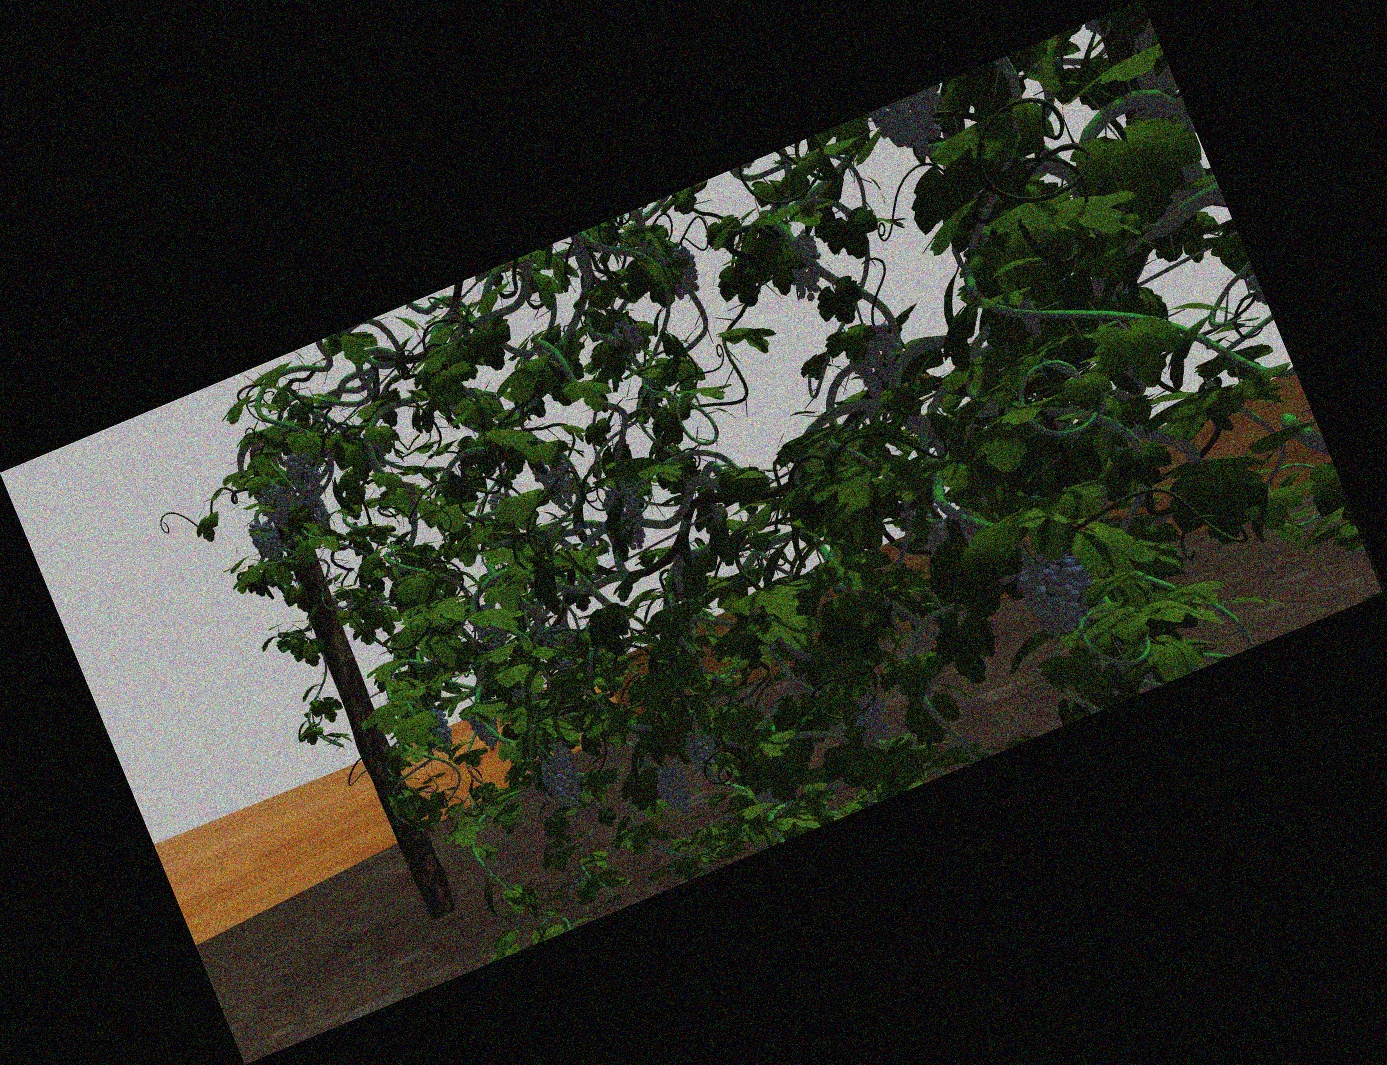grape: (1023, 553, 1092, 632), (880, 98, 951, 155), (851, 329, 902, 393), (544, 743, 581, 809), (611, 489, 648, 550), (540, 458, 577, 511), (849, 696, 890, 739), (657, 762, 690, 812), (289, 451, 319, 501), (260, 482, 290, 531), (686, 731, 718, 771), (472, 707, 499, 751), (254, 520, 281, 560), (608, 320, 641, 351), (430, 709, 453, 752), (314, 499, 330, 531)
